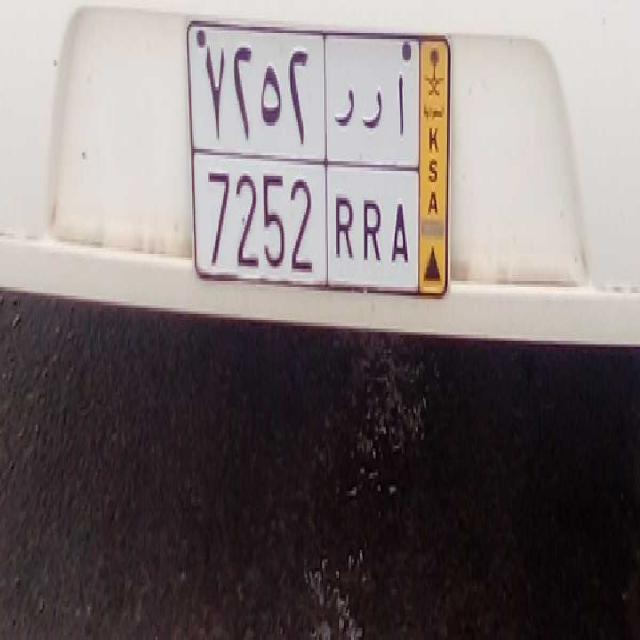license_plate: (193, 149, 419, 293)
